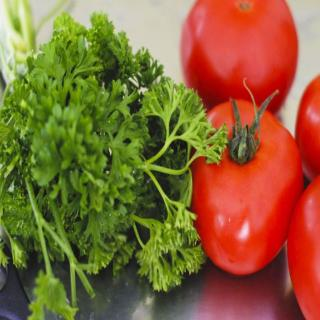tomato: (188, 75, 307, 281), (177, 0, 299, 112), (288, 177, 316, 319), (296, 70, 320, 176)
